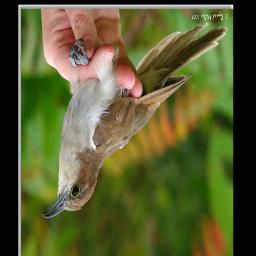Cuckoo: (42, 24, 229, 220)
